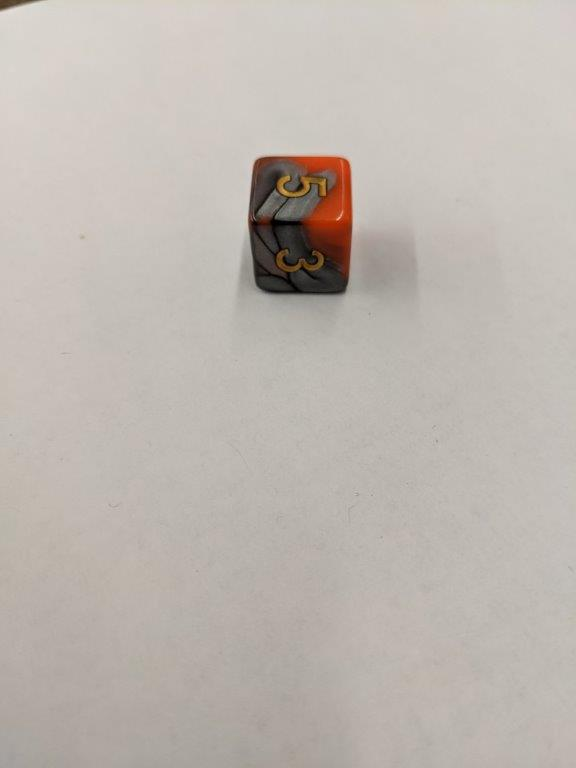d6-5: (249, 155, 352, 297)
